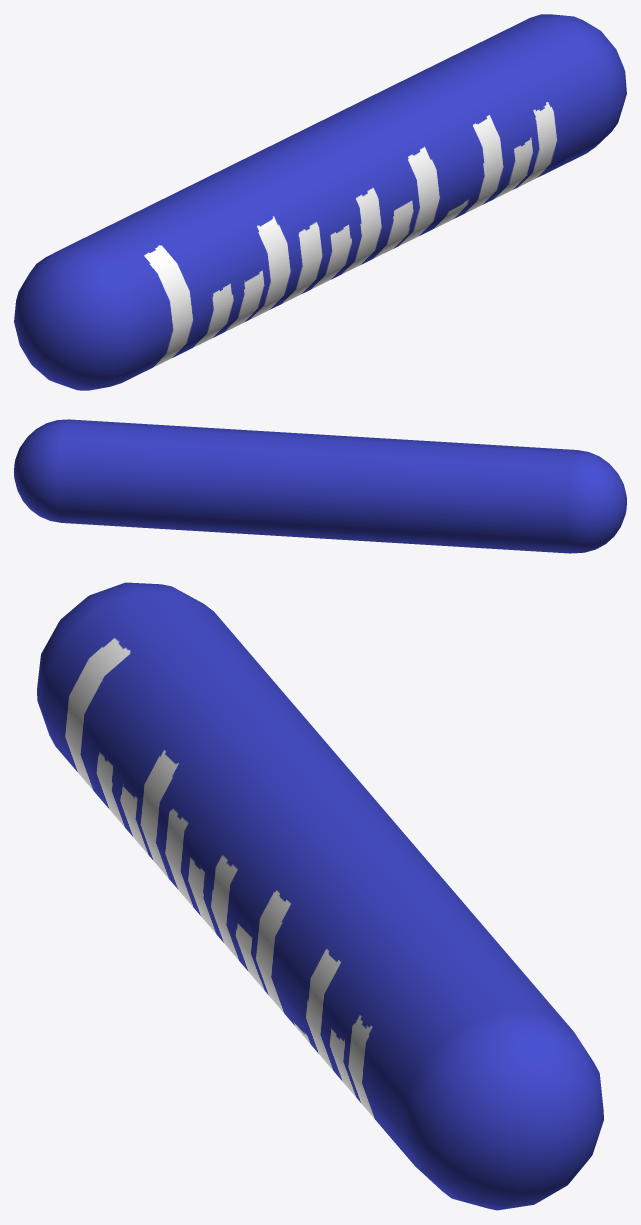
Rendered from audio_3d.glb.
3 renders of one model, top to bottom at view 1: azimuth 30°, elevation 25°; view 2: azimuth 150°, elevation 25°; view 3: azimuth 270°, elevation 25°, orthographic. The views are drawn at different scales.
Parts seen in each view (by area): view 1: mesh_id32; view 2: mesh_id32; view 3: mesh_id32.
Boxes of the visible parts, x1,y1,x2,y2 form: mesh_id32: [14, 14, 626, 390]; mesh_id32: [14, 419, 626, 553]; mesh_id32: [37, 582, 603, 1210].
Size of the model in its own units: 0.3368 by 0.063 by 0.1626.
1 material, 1 textured.
